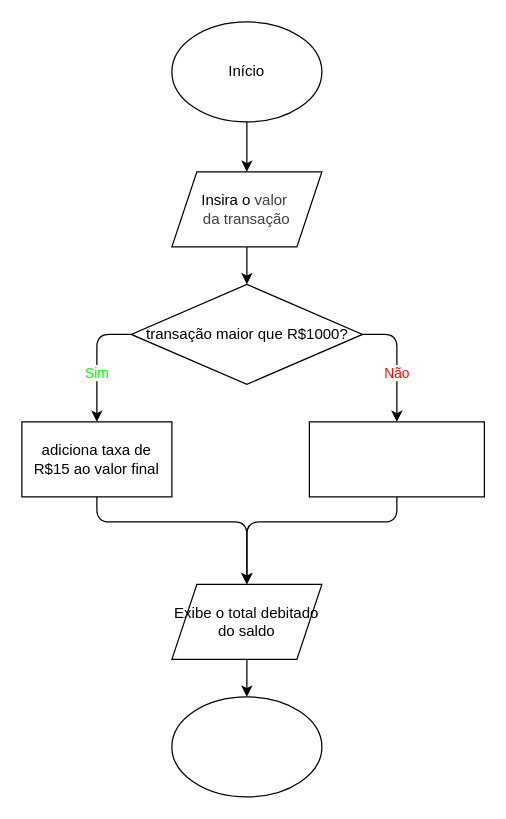
Some shapes in this 506 by 819 pixel diagram are drawn without their labels. The shapes that lost their labels are listed below. From the top down, each one's box as (x1, y1, x2, y2) in pixels, then its label:
(308, 421, 484, 497): Mantem valor final igual
(171, 696, 322, 797): Fim
